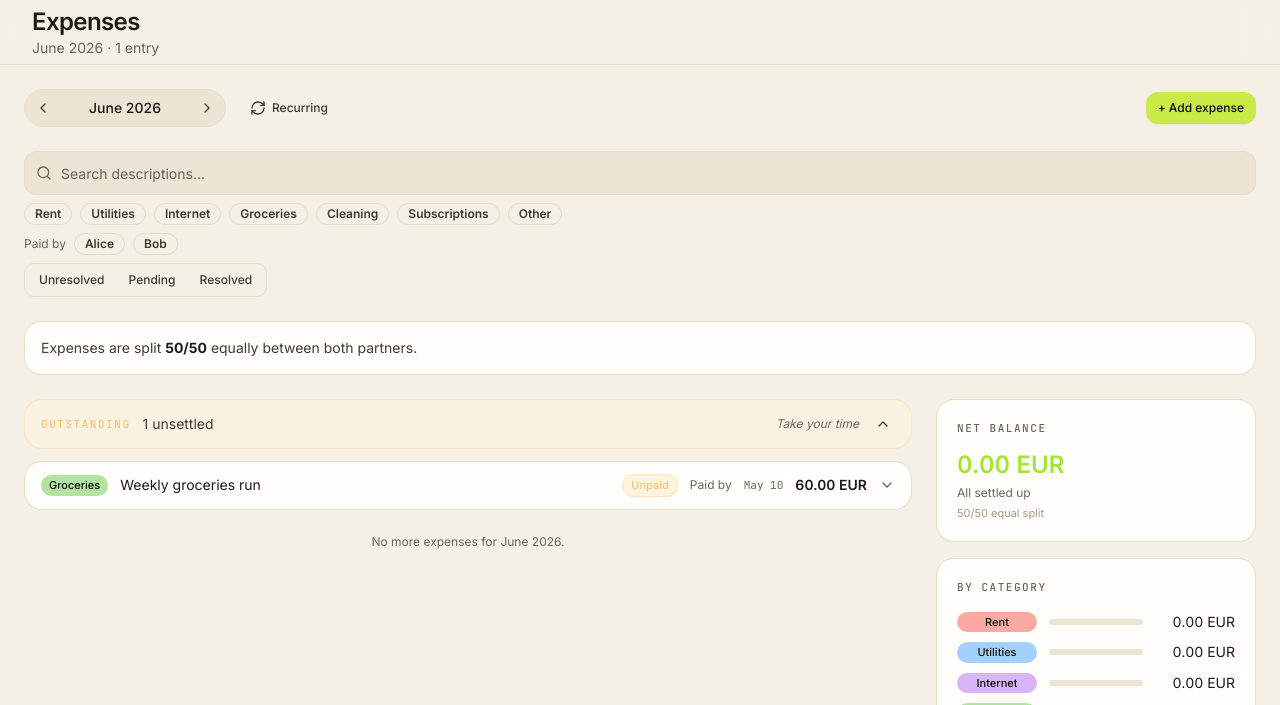
Scenario: <ExpensesPage /> flows › I.2 — Cache invalidation on claim failure (regression for fbace03)
// Expand the row to reveal action buttons
Click the text "Weekly groceries run" at (191, 485), box [120,476,261,493]
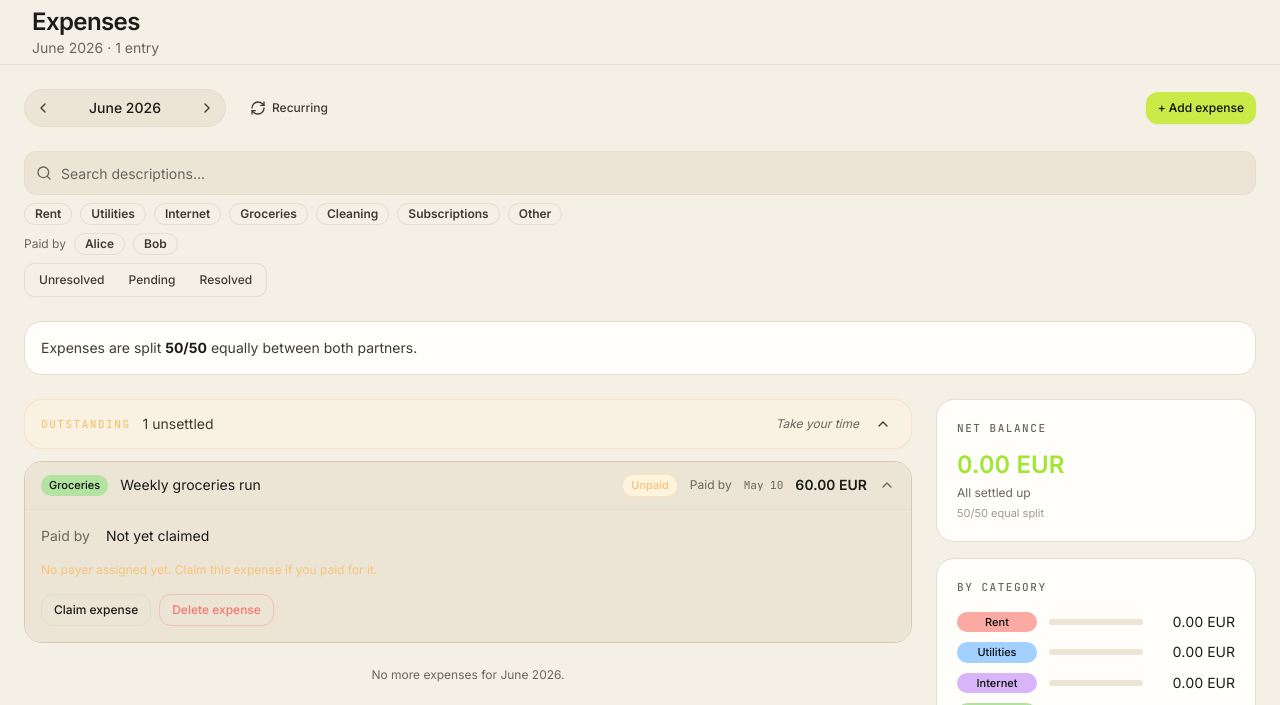
Click the button "Claim expense" at (96, 610), box [41,594,151,626]
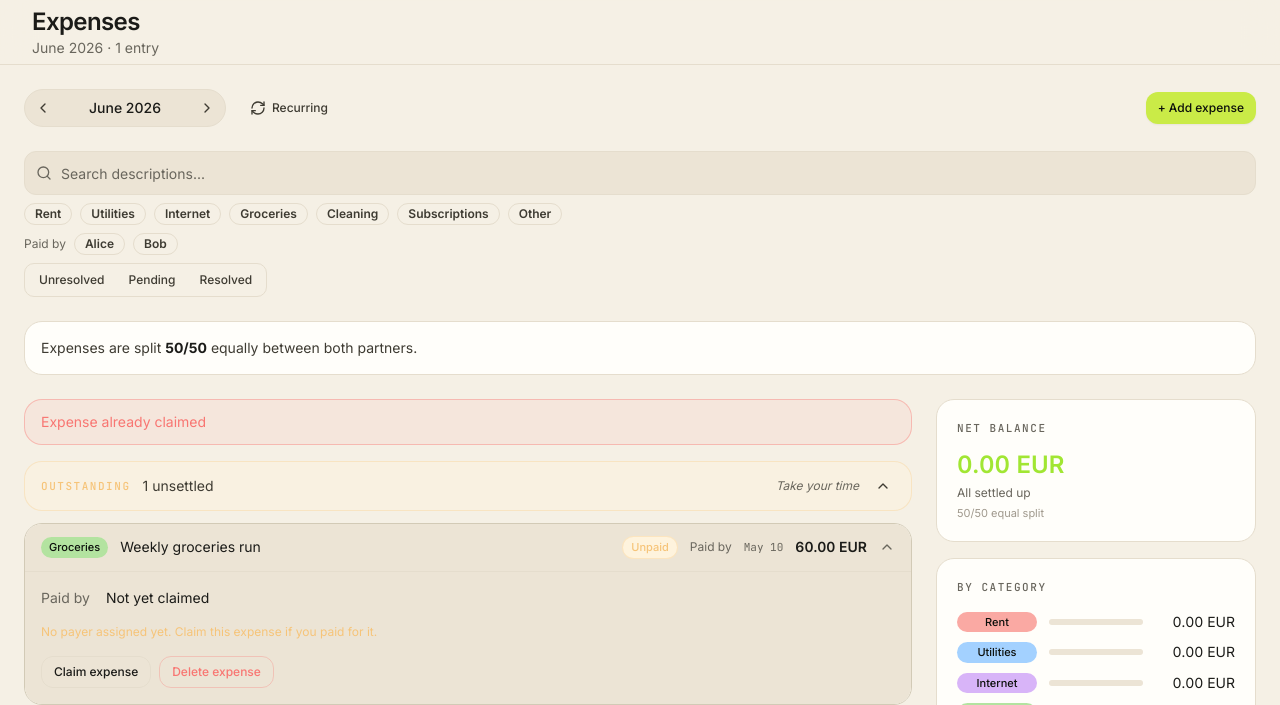
expect the text "Expense already claimed" is shown: met, box [24,399,912,445]
